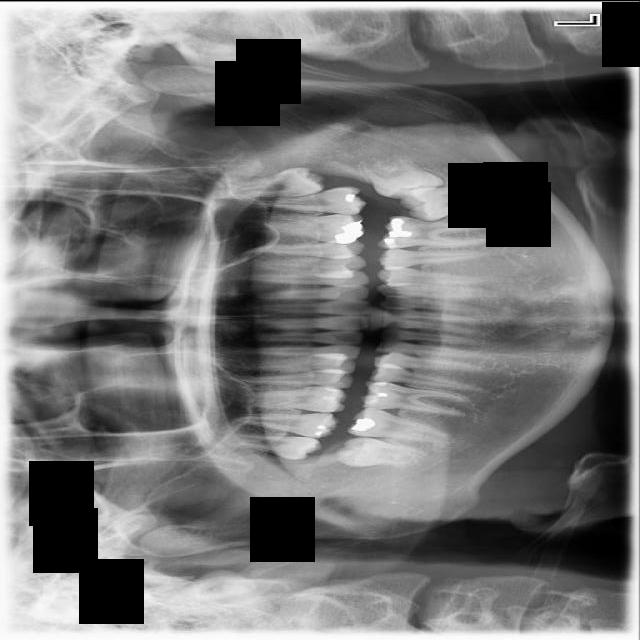3M ESPE Implant: (225, 434, 322, 460)
52: (345, 399, 401, 447), (315, 182, 369, 221), (377, 211, 424, 255), (359, 375, 407, 415), (316, 211, 366, 245), (301, 384, 347, 412), (289, 412, 339, 437)
73: (570, 38, 579, 50)
BioHorizons Implant: (248, 183, 368, 225)
BioLife Implant: (233, 163, 326, 202)
Biomet 3i Implant: (356, 152, 448, 205)
Blue Sky Bio Implant: (398, 182, 495, 222)
Caries: (234, 410, 340, 437)
Implant: (345, 405, 453, 445)
Keystone Dental Implant: (333, 437, 422, 466)
